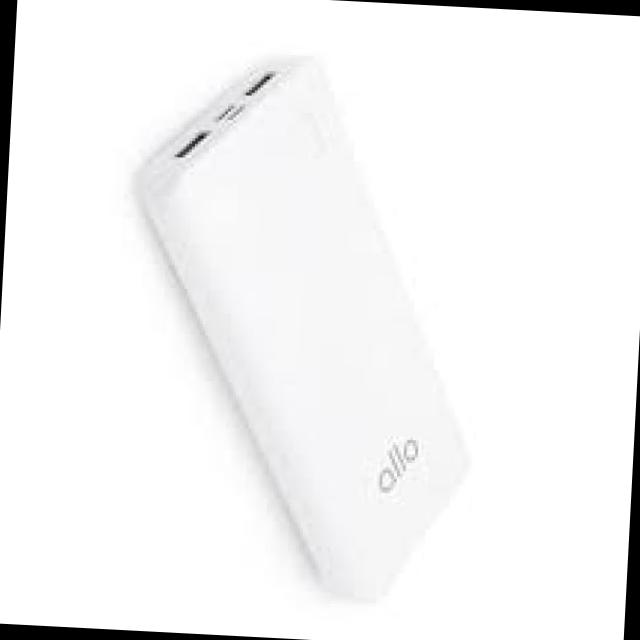power_bank: (116, 41, 494, 610)
